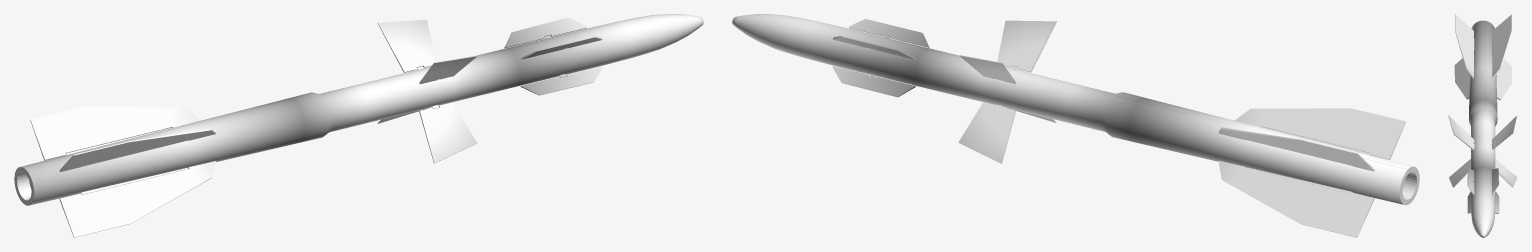
3 renders of one model, left to right at view 1: azimuth 30°, elevation 25°; view 2: azimuth 150°, elevation 25°; view 3: azimuth 270°, elevation 25°, orthographic. The views are drawn at different scales.
Visible parts, largest first — view 1: R27; view 2: R27; view 3: R27.
Boxes of the visible parts, x1,y1,x2,y2 form: R27: [14, 14, 703, 237]; R27: [732, 14, 1419, 237]; R27: [1448, 14, 1517, 237].
Bounding box in the file's own units: 3.7 × 0.5313 × 0.5308.
1 material, 1 textured.
